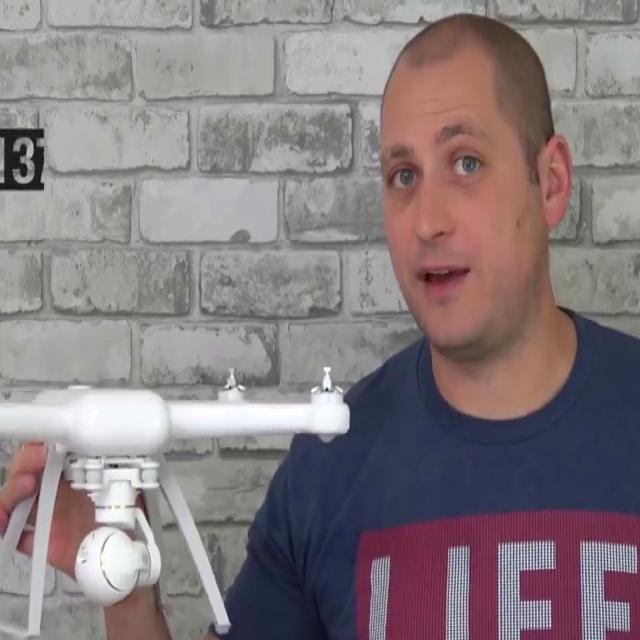drone: (0, 359, 376, 486)
